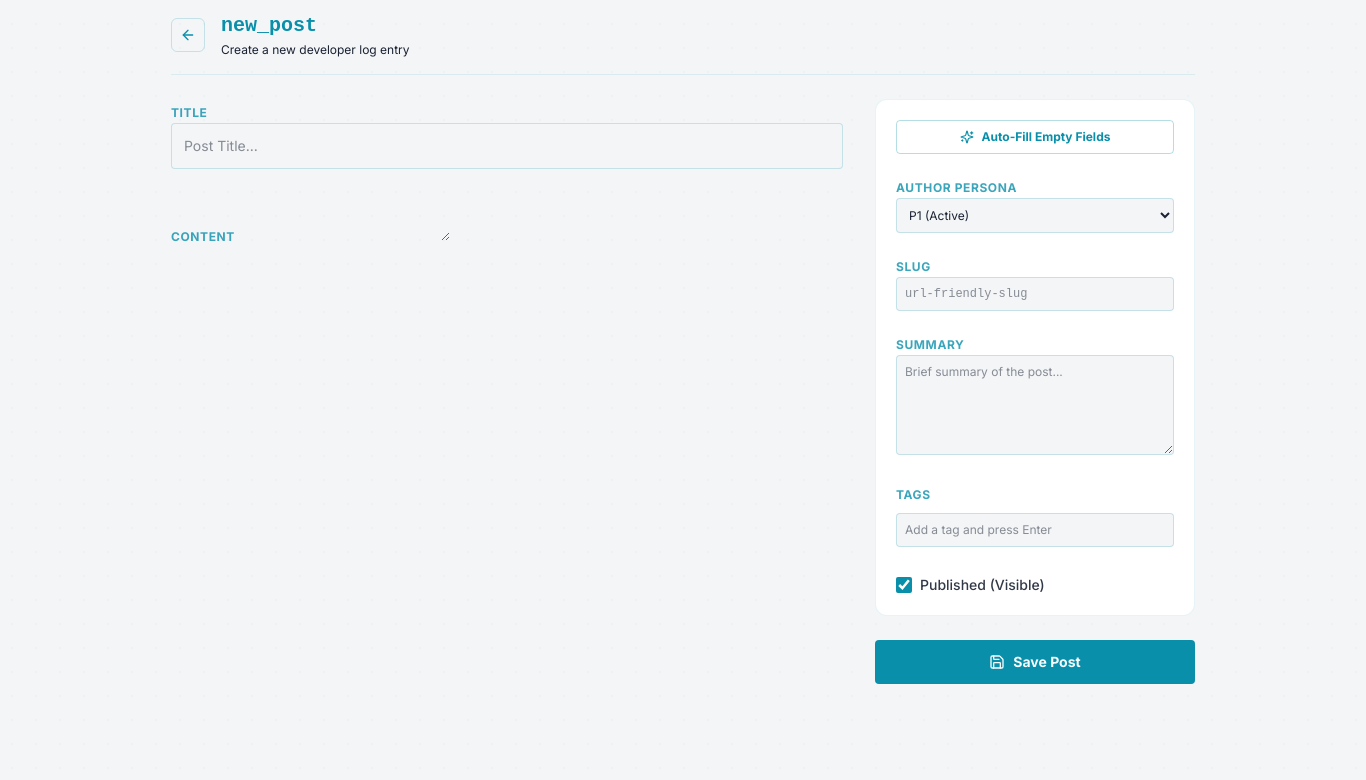
Test: CreateBlogPage › shows error when submission fails
# Fill out minimum required fields
Step 1. Type "New Test Post" into the field with placeholder "Post Title..." → (507, 146), box [171, 123, 843, 169]
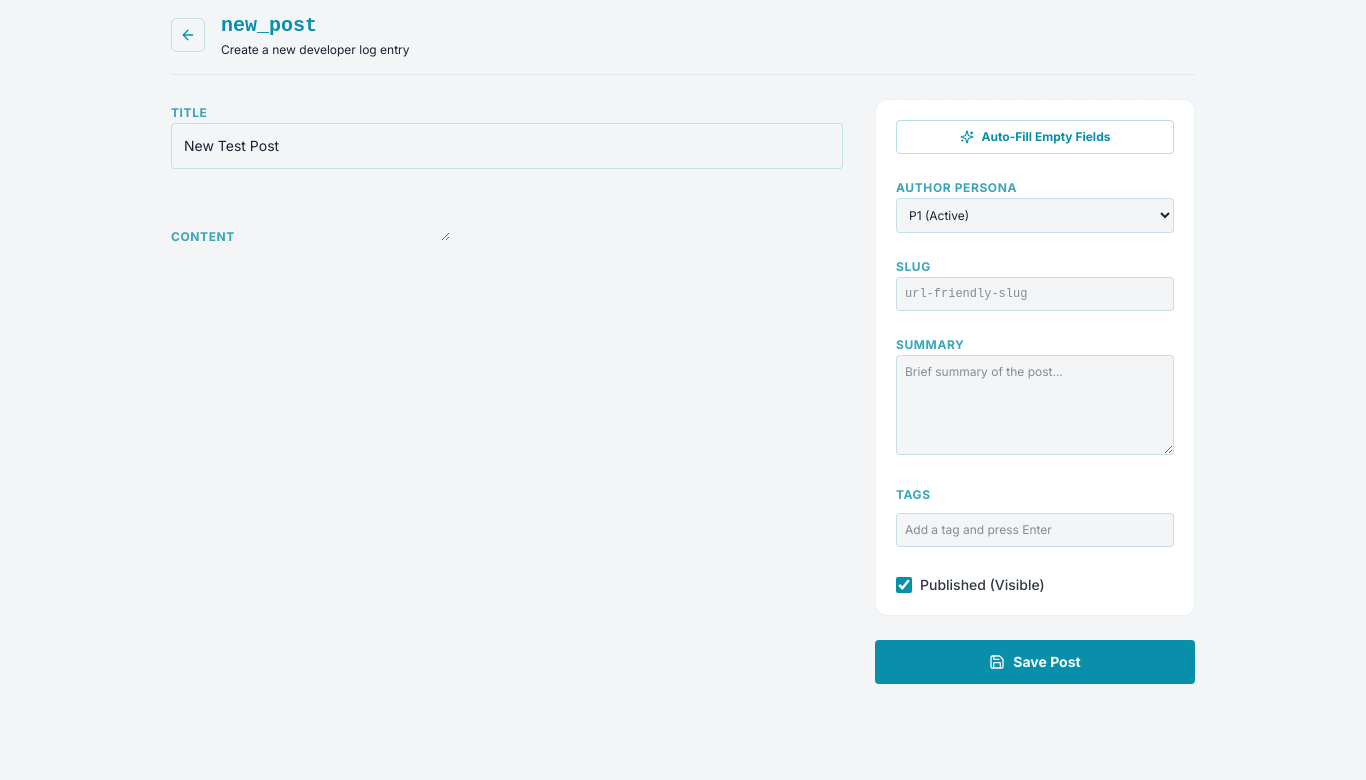
Step 2. Type "new-test-post" into the field with placeholder "url-friendly-slug" → (1035, 294), box [896, 277, 1174, 311]
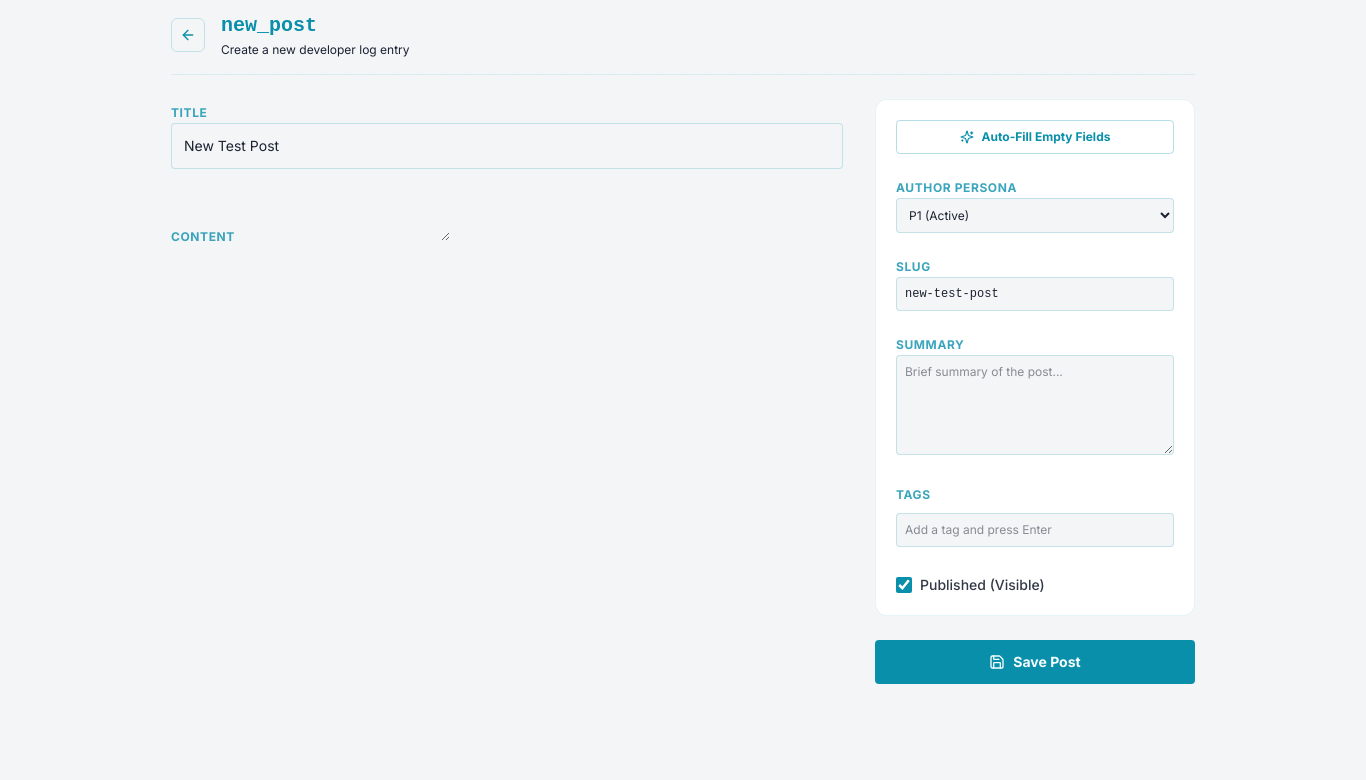
Step 3. Type "Test summary" into the text box with placeholder "Brief summary of the post..." → (1035, 405), box [896, 355, 1174, 455]
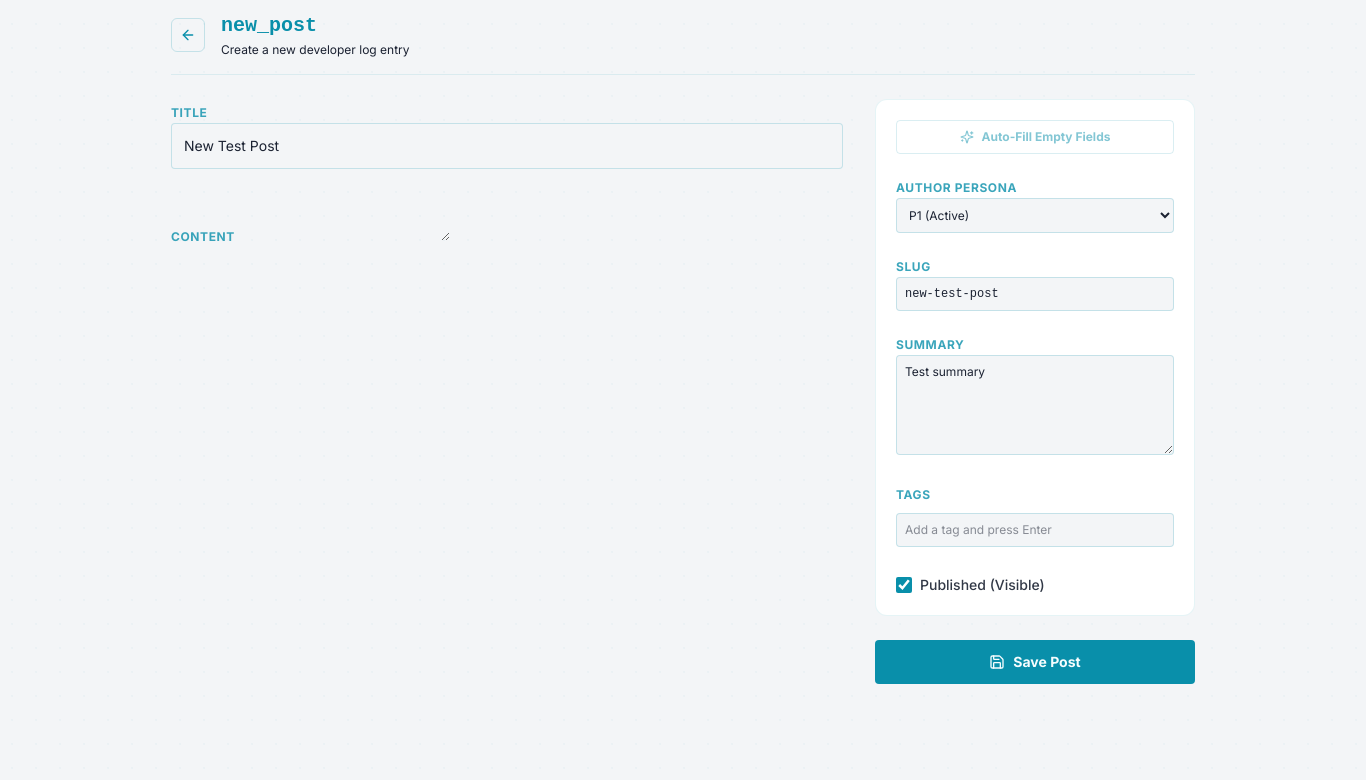
Step 4. Type "Test content" into the text box with test id "markdown-editor" → (342, 217), box [235, 193, 450, 241]
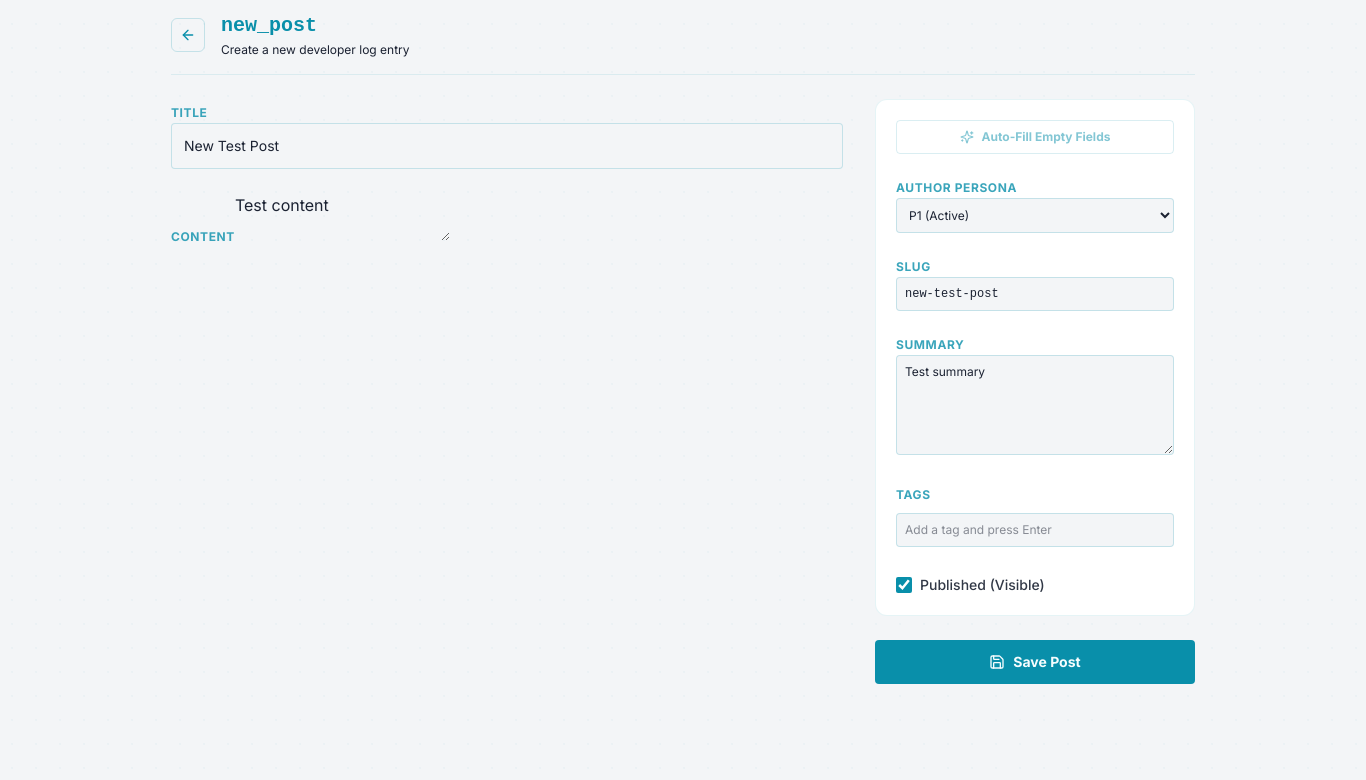
Step 5. Click the button "Save Post" → (1035, 662), box [875, 640, 1195, 684]
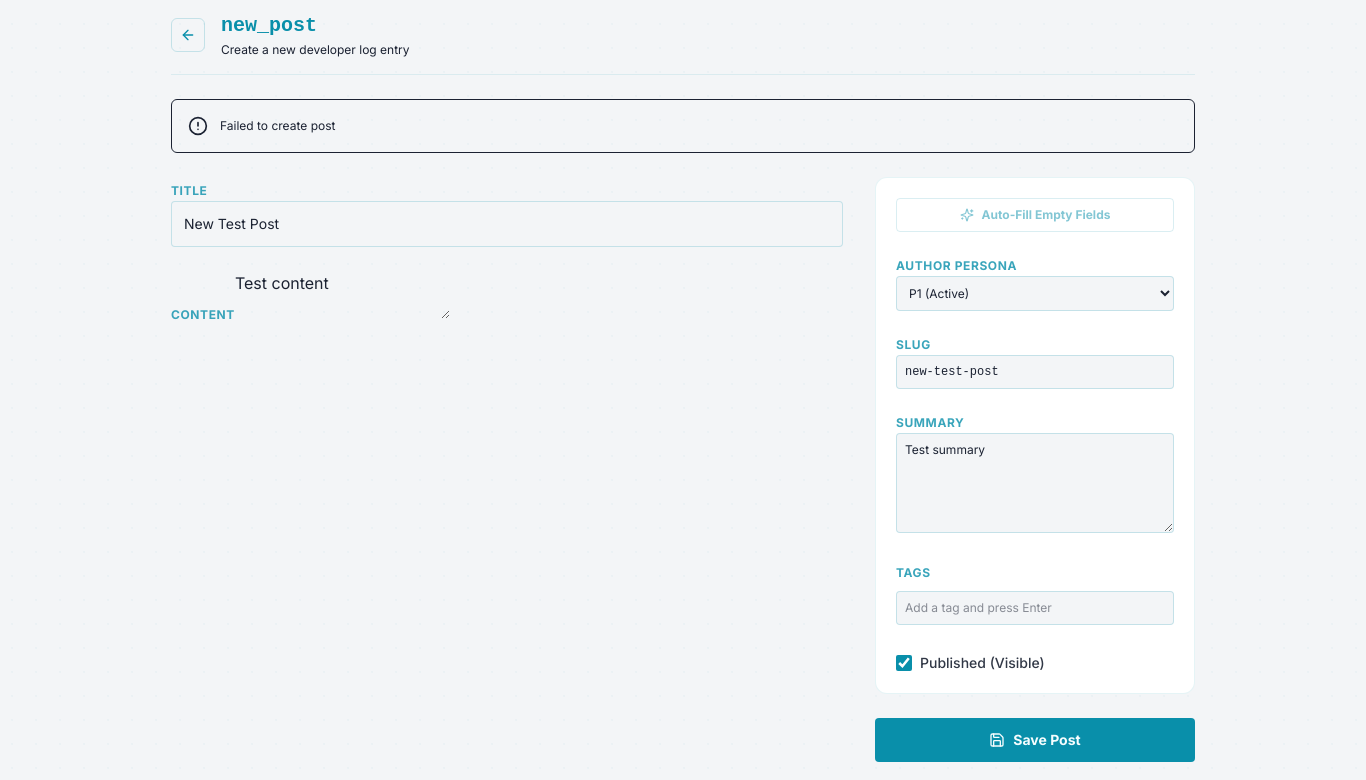
Expected: the text "Failed to create post" is shown, [220, 118, 336, 134]
